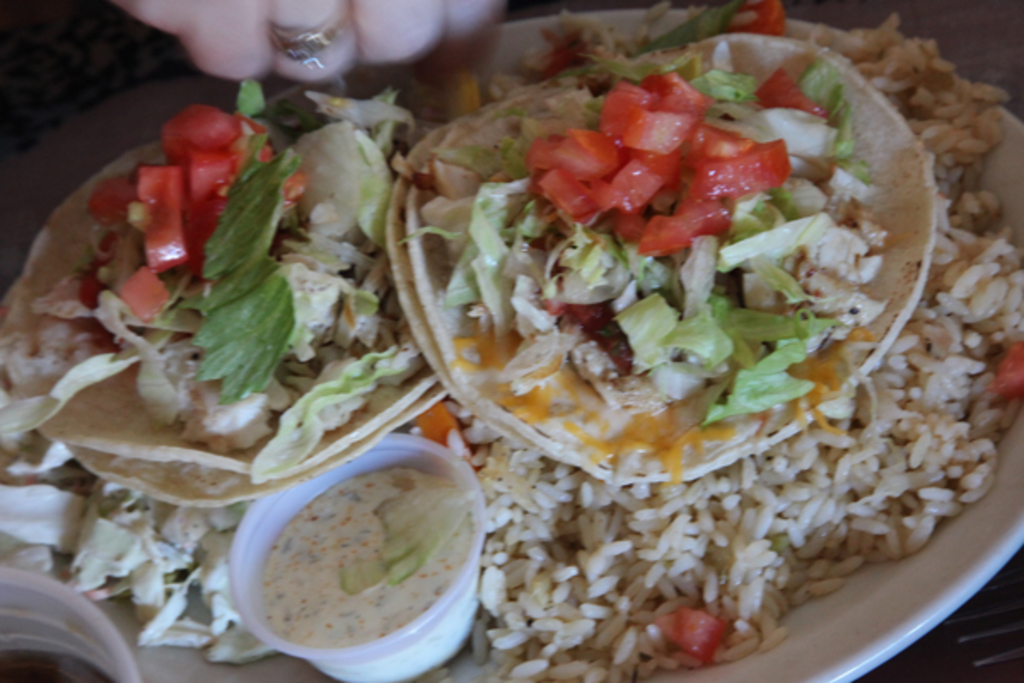taco: (386, 32, 932, 485), (0, 120, 430, 522)
